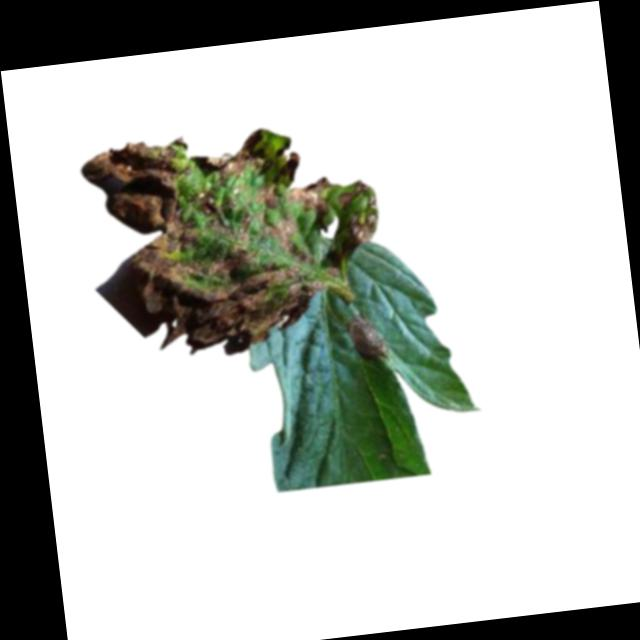Early_blight: (78, 113, 392, 358), (345, 313, 391, 367)
